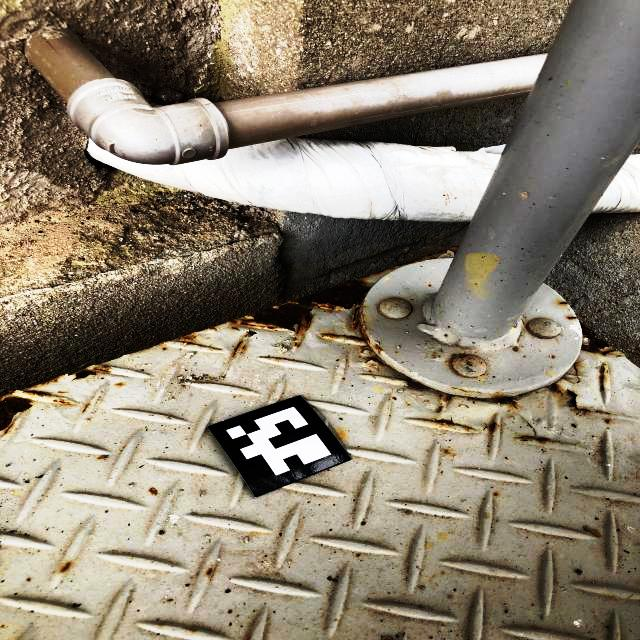Corrosion: (225, 280, 373, 349), (321, 310, 384, 356), (536, 383, 619, 416), (0, 391, 36, 437), (396, 245, 460, 268), (580, 325, 615, 356), (519, 420, 554, 444), (362, 353, 400, 372), (447, 351, 475, 375), (402, 372, 435, 391), (172, 332, 207, 348), (28, 375, 66, 389), (492, 391, 520, 410), (358, 267, 396, 280), (423, 414, 455, 428), (68, 368, 98, 382), (573, 358, 587, 384), (600, 363, 610, 392), (22, 390, 54, 397), (89, 365, 113, 374), (451, 387, 481, 394), (232, 340, 243, 358), (482, 420, 497, 433), (58, 561, 72, 574), (444, 393, 460, 402), (244, 329, 258, 338), (52, 399, 73, 405), (152, 341, 169, 348), (81, 402, 90, 414), (444, 448, 456, 457), (260, 356, 282, 360), (432, 351, 441, 359), (206, 325, 217, 331), (150, 487, 158, 495), (94, 396, 101, 405), (229, 327, 241, 332), (240, 345, 245, 357), (206, 567, 213, 575), (558, 301, 569, 305), (520, 318, 525, 326), (57, 390, 67, 394), (465, 427, 473, 432), (116, 383, 126, 386), (567, 317, 578, 319), (410, 298, 416, 301), (162, 347, 166, 350), (439, 394, 442, 398), (427, 284, 432, 286)
